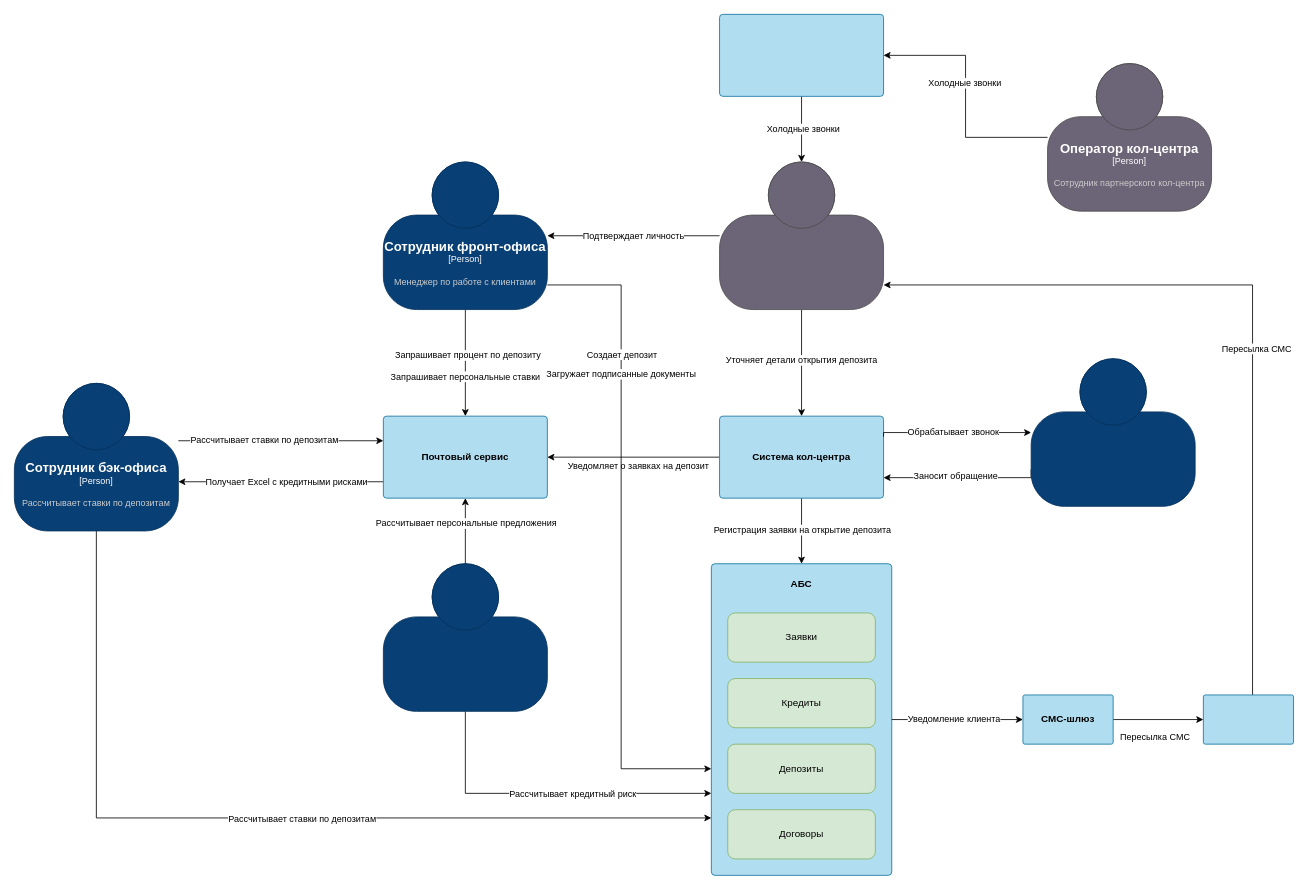
The diagram is 1308 pixels wide and 890 high, and some of its shapes have lost their labels. The centre of each missing label's shape, as x and y in pixels:
"Клиент [Person] Клиент с улицы или кол-центра" belongs at [801,235].
"Оператор кол-центра [Person] Сотрудник внутреннего кол-центра" belongs at [1112,432].
"Система партнёрского кол-центра" belongs at [801,55].
"Сотрудник бэк-офиса [Person] Занимается кредитами" belongs at [465,637].
"Телеком-оператор" belongs at [1248,719].
